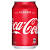coke: (11, 17, 38, 37)
